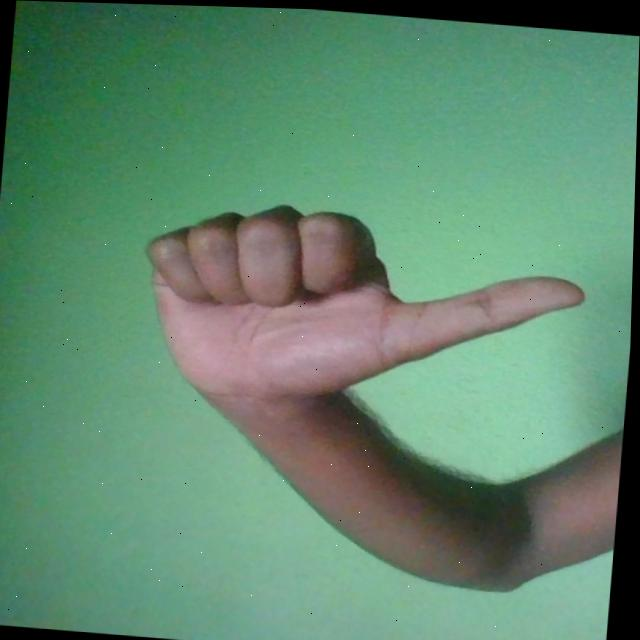Dislike: (137, 194, 591, 423)
